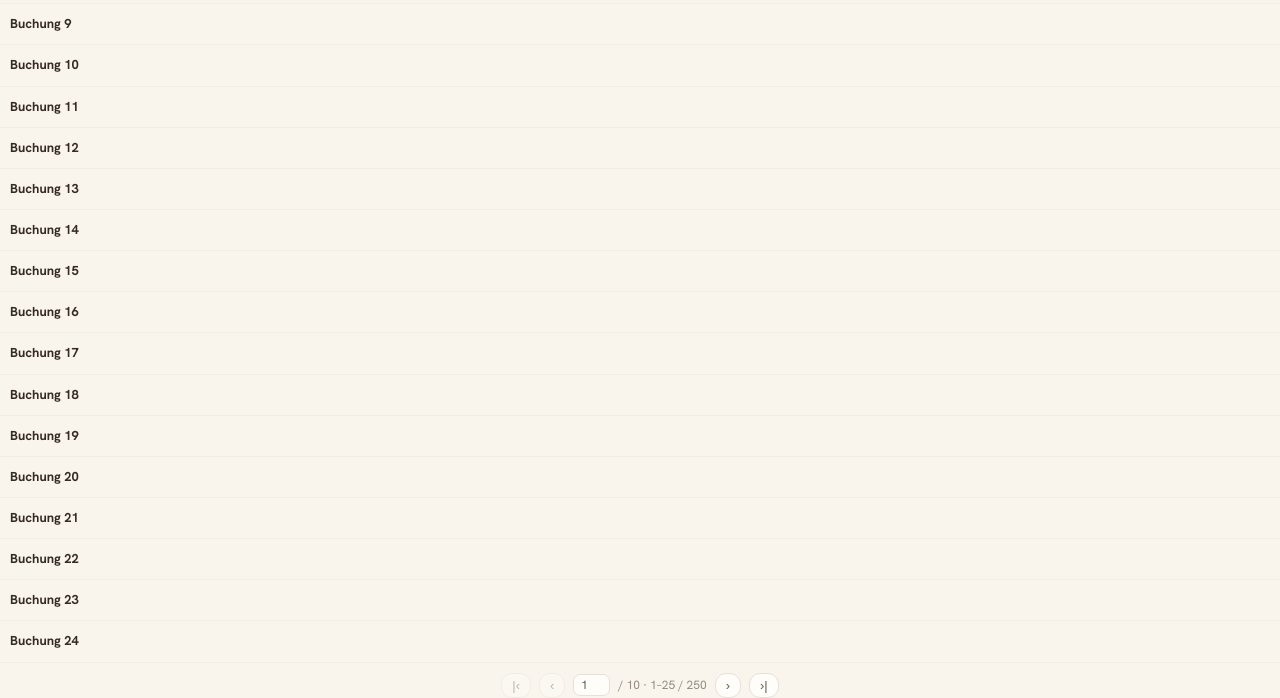
Test: DataTable — Seitensteuerung › zeigt die erste Seite und blättert vorwärts
(page scrolled)
Click the button titled "nächste" at (728, 685), box [715,673,741,697]
(page scrolled)
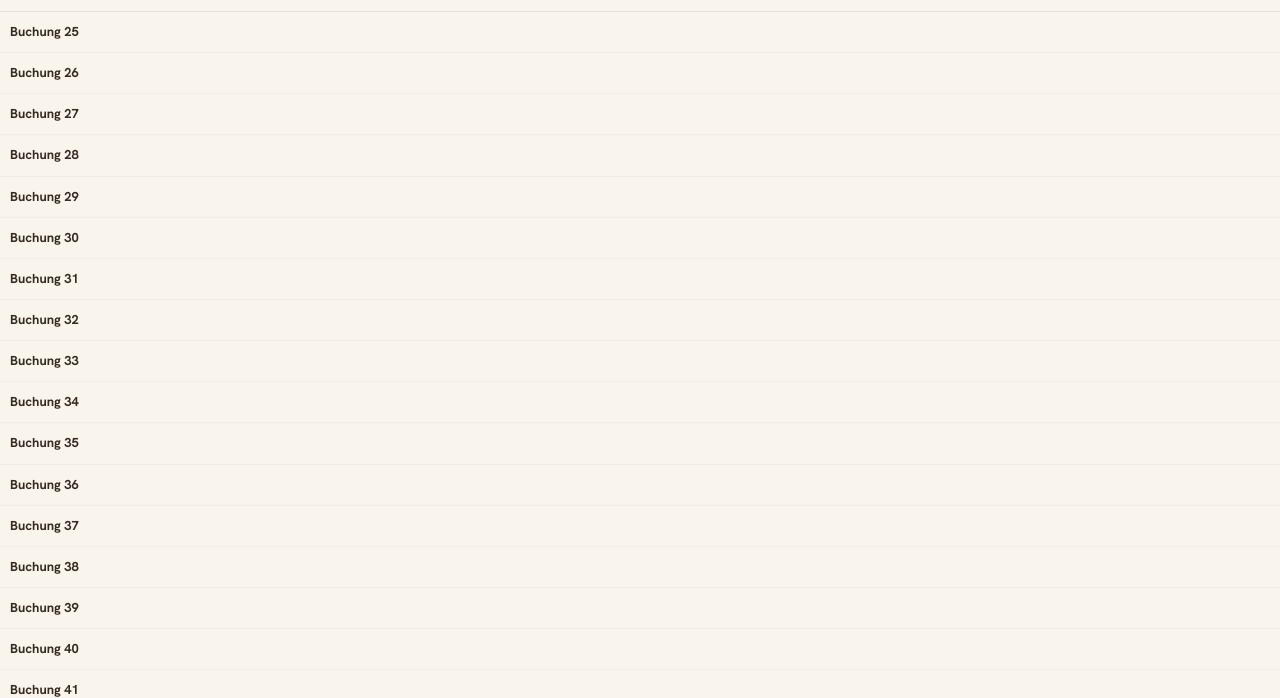
Check: the text "Buchung 25" is shown, box [10,23,79,40]
